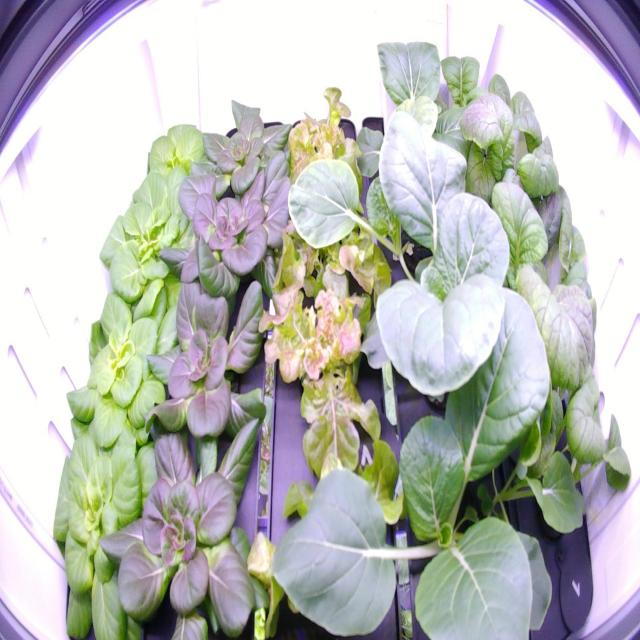young: (91, 391, 291, 638), (45, 400, 184, 639), (132, 254, 282, 449), (153, 148, 311, 316), (61, 266, 198, 452), (91, 168, 226, 318), (125, 107, 243, 226), (185, 84, 297, 208)
